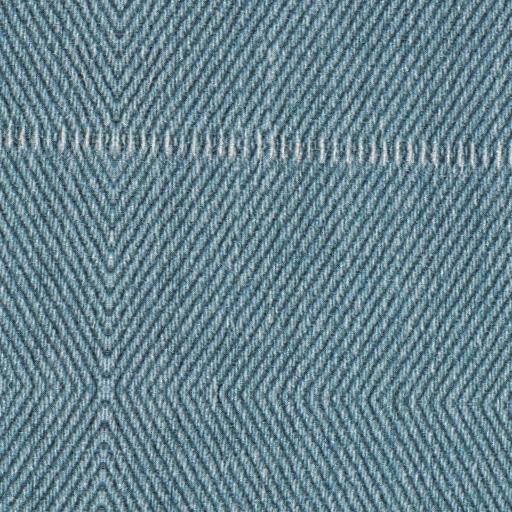slub: (0, 120, 511, 185)
